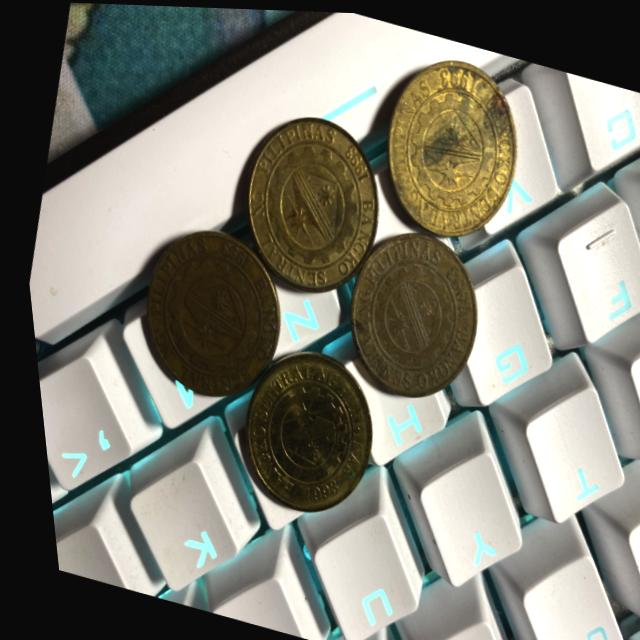25Cent_Old_Back: (366, 53, 535, 248), (332, 219, 492, 394), (232, 114, 393, 287), (123, 238, 287, 402), (234, 355, 376, 512)
